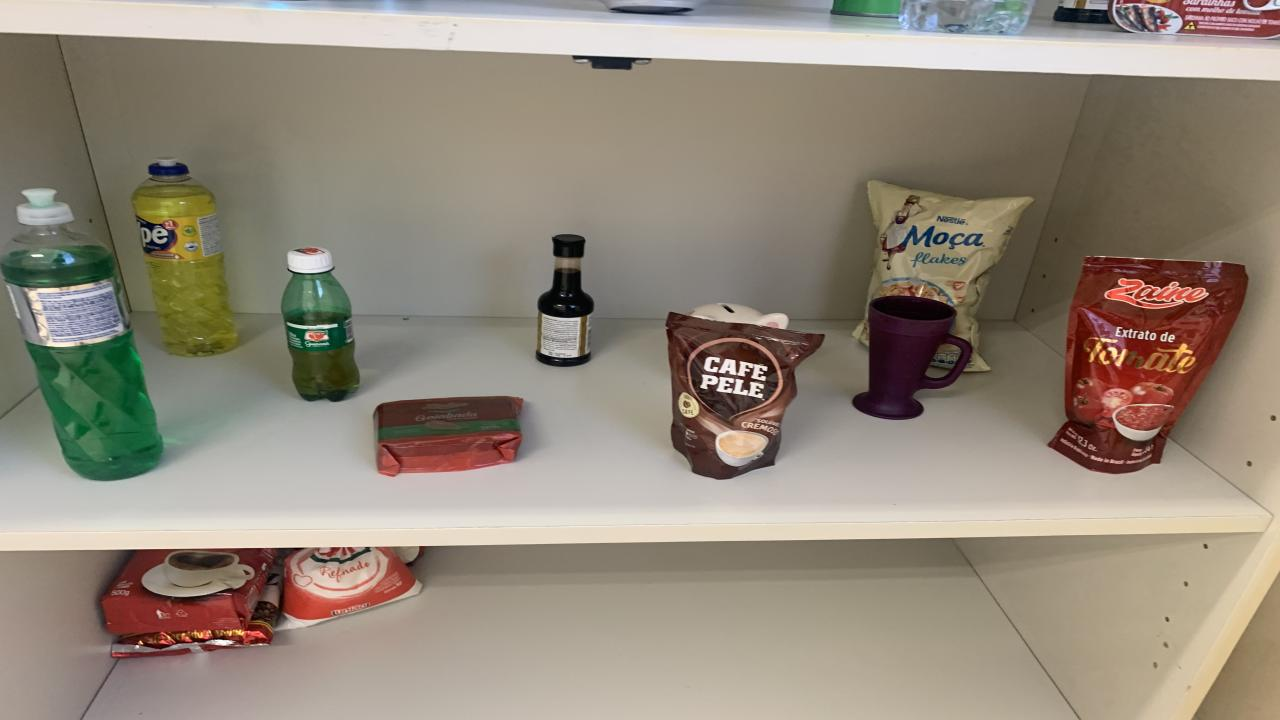Coffee-Pantry_Items: (665, 313, 825, 478)
Detergent-Cleanup_Items: (0, 189, 162, 480), (132, 158, 238, 356)
English_Sauce-Pantry_Items: (535, 234, 595, 368), (1052, 0, 1110, 24)
Flakes-Snacks: (868, 180, 1032, 371), (932, 345, 960, 368), (852, 313, 870, 345)
Guarana-Drinks: (280, 248, 360, 401)
Guava-Snacks: (372, 396, 522, 476)
Pig_Safe-Miscellaneous: (685, 304, 790, 330)
Pringles-Snacks: (830, 0, 900, 19)
Tomato_Sauce-Pantry_Items: (1048, 257, 1248, 472)
Tonic-Drinks: (600, 0, 702, 15)
Tuna_Can-Pantry_Items: (1108, 0, 1280, 38)
Water_Bottle-Drinks: (900, 0, 1035, 36)
